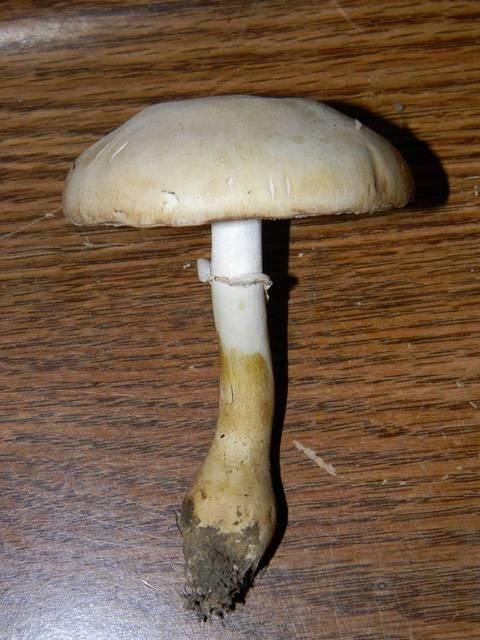Non-edible Mushroom: (60, 92, 415, 622)
